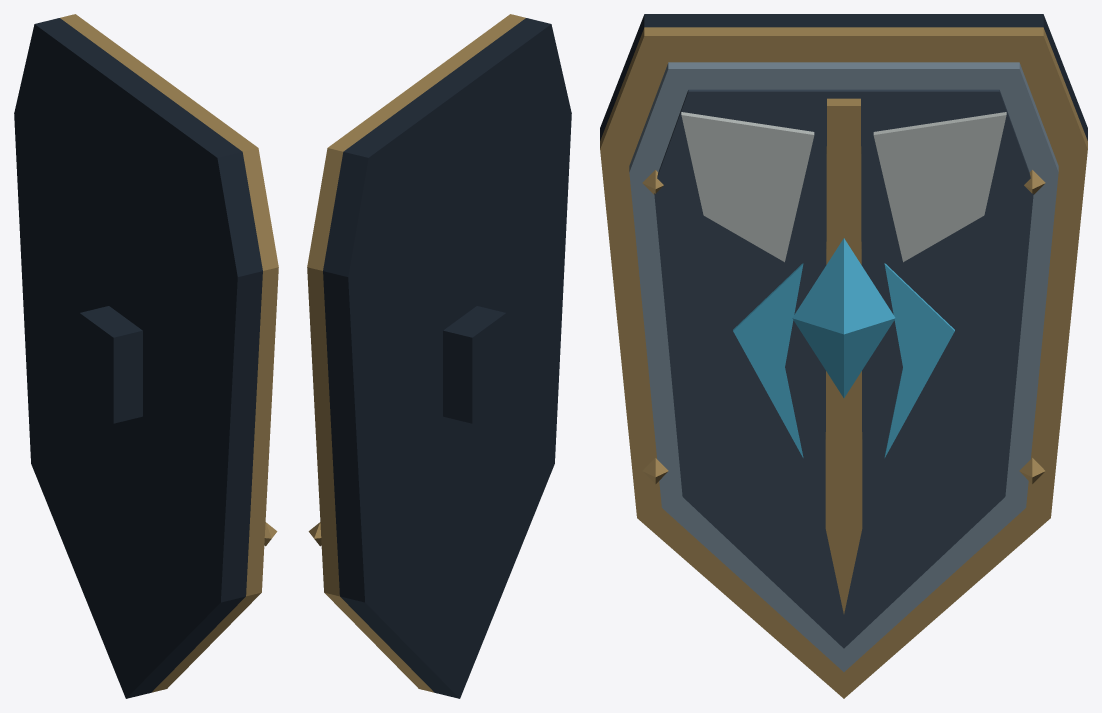
File: SM_PG_GuardianShield.fbx
3 renders of one model, left to right at view 1: azimuth 30°, elevation 25°; view 2: azimuth 150°, elevation 25°; view 3: azimuth 270°, elevation 25°, orthographic. The views are drawn at different scales.
Visible parts, largest first — view 1: SM_PG_GuardianShield; view 2: SM_PG_GuardianShield; view 3: SM_PG_GuardianShield.
Boxes of the visible parts, x1=… form: SM_PG_GuardianShield: x1=14, y1=14, x2=278, y2=698; SM_PG_GuardianShield: x1=307, y1=14, x2=571, y2=698; SM_PG_GuardianShield: x1=600, y1=14, x2=1087, y2=698.
Size of the model in its own units: 22.9 by 66 by 99.
